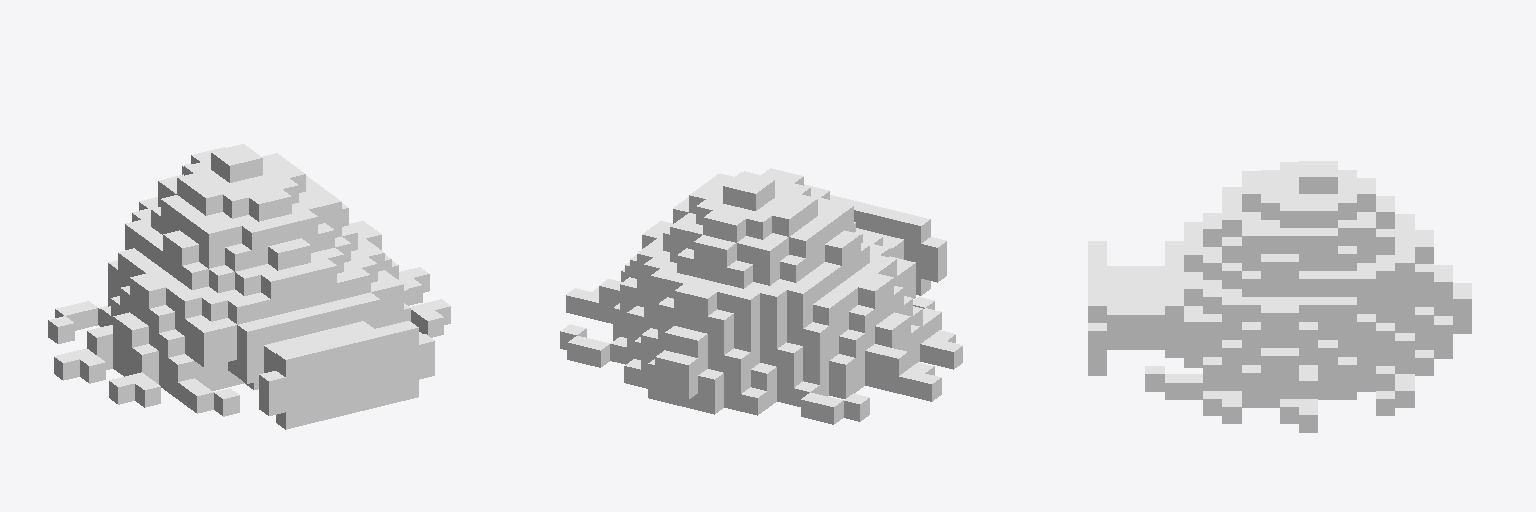
Rendered from OktorockBlue1.vox.obj.
The picture shows the model from 3 angles: view 1: azimuth 30°, elevation 25°; view 2: azimuth 150°, elevation 25°; view 3: azimuth 270°, elevation 25°; orthographic projection.
Parts seen in each view (by area): view 1: object 1; view 2: object 1; view 3: object 1.
Part boxes in pixels (x1,y1,x2,y2): object 1: (48, 144, 450, 429); object 1: (560, 168, 962, 424); object 1: (1088, 161, 1471, 432).
Bounding box in the file's own units: 2.2 × 1 × 2.